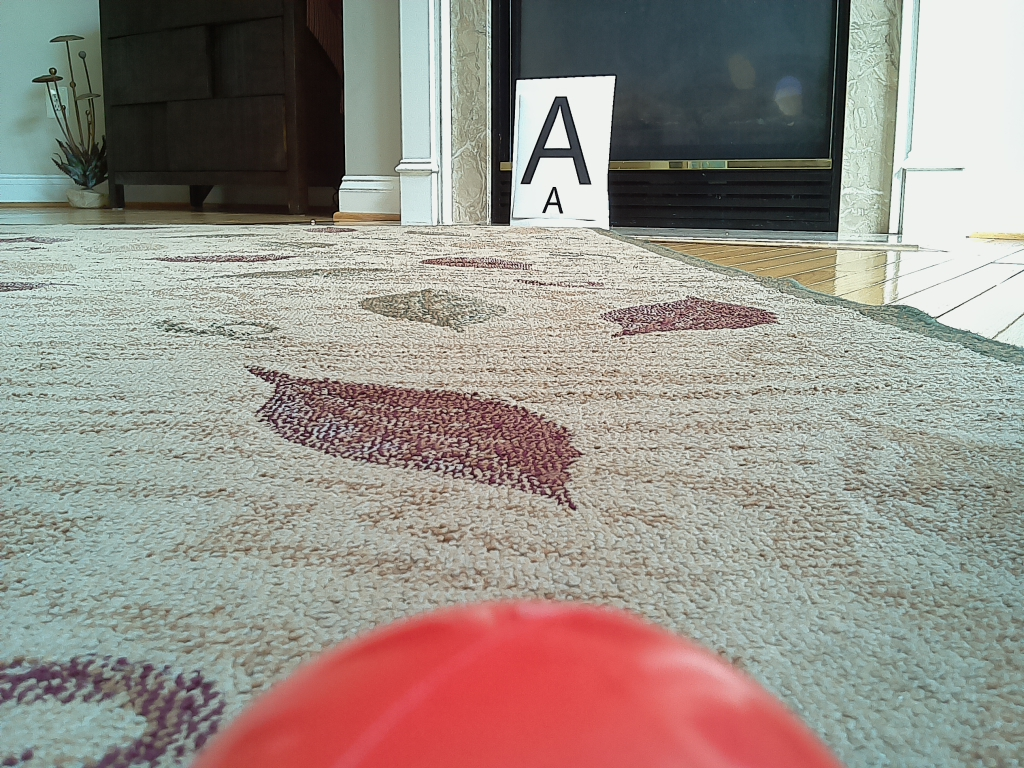letter: (521, 97, 595, 184)
